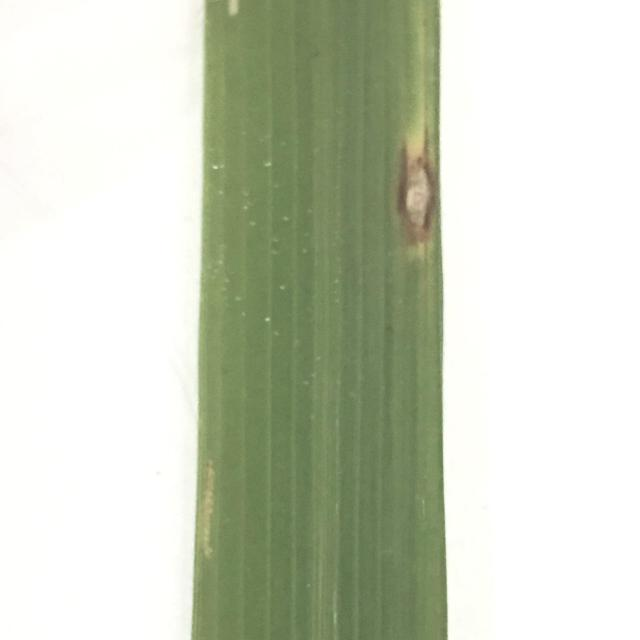Leaf_Blast: (374, 92, 464, 276)
